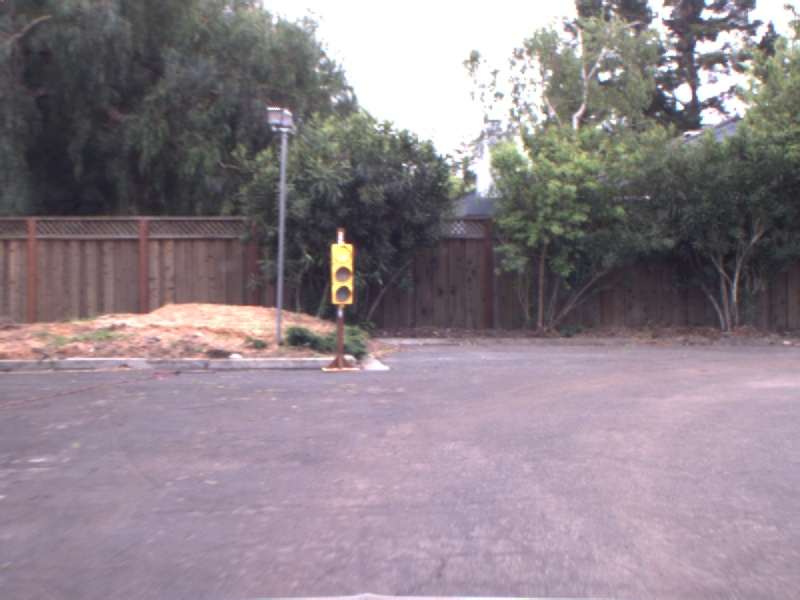red: (327, 239, 357, 307)
